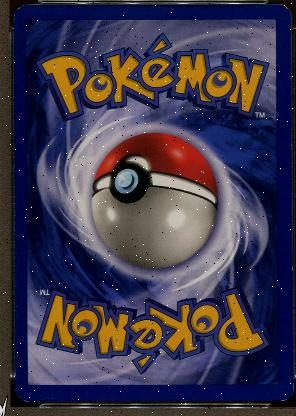Card: (11, 2, 293, 406)
Corner Wear: (12, 2, 36, 24), (273, 1, 292, 19), (278, 382, 293, 402), (14, 387, 32, 403)
Edge Wear: (290, 264, 293, 330)
Scratch: (39, 394, 53, 400), (272, 119, 286, 121)
